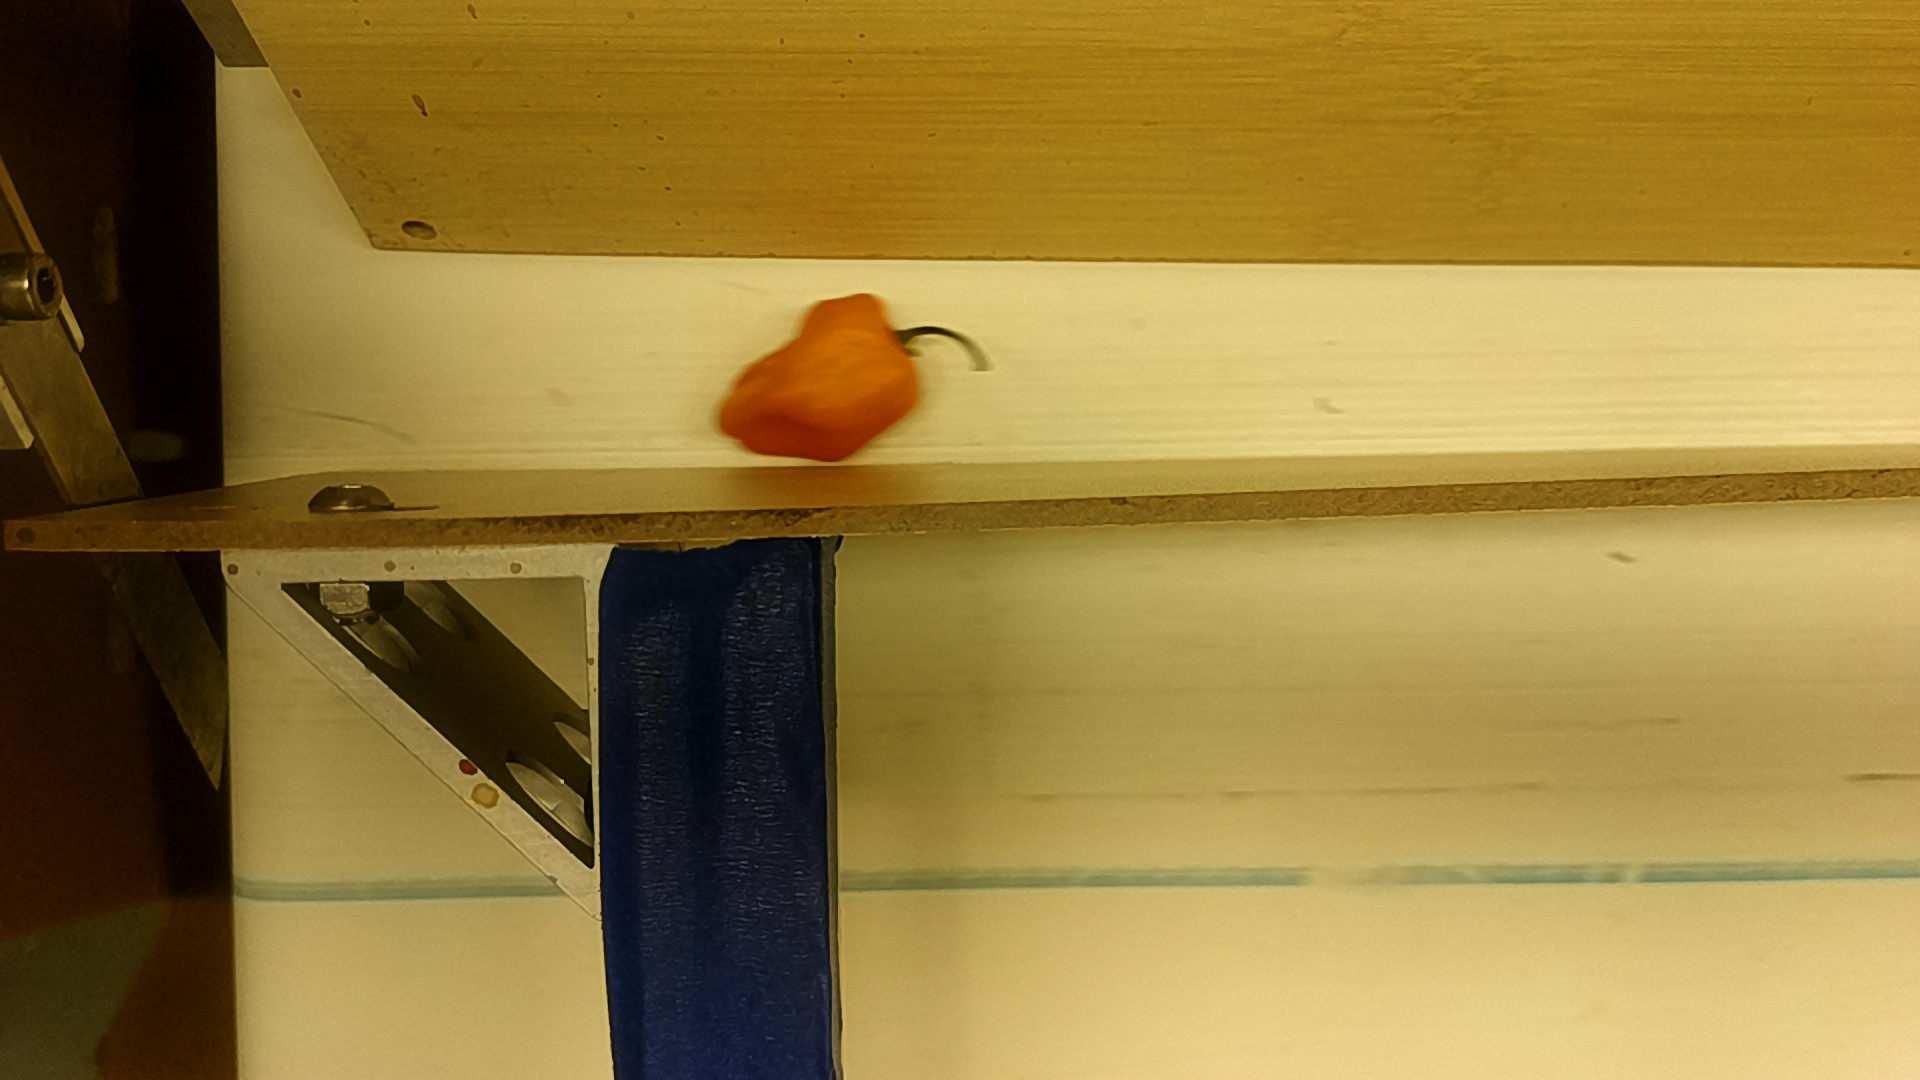Cut Point: (862, 282, 919, 438)
